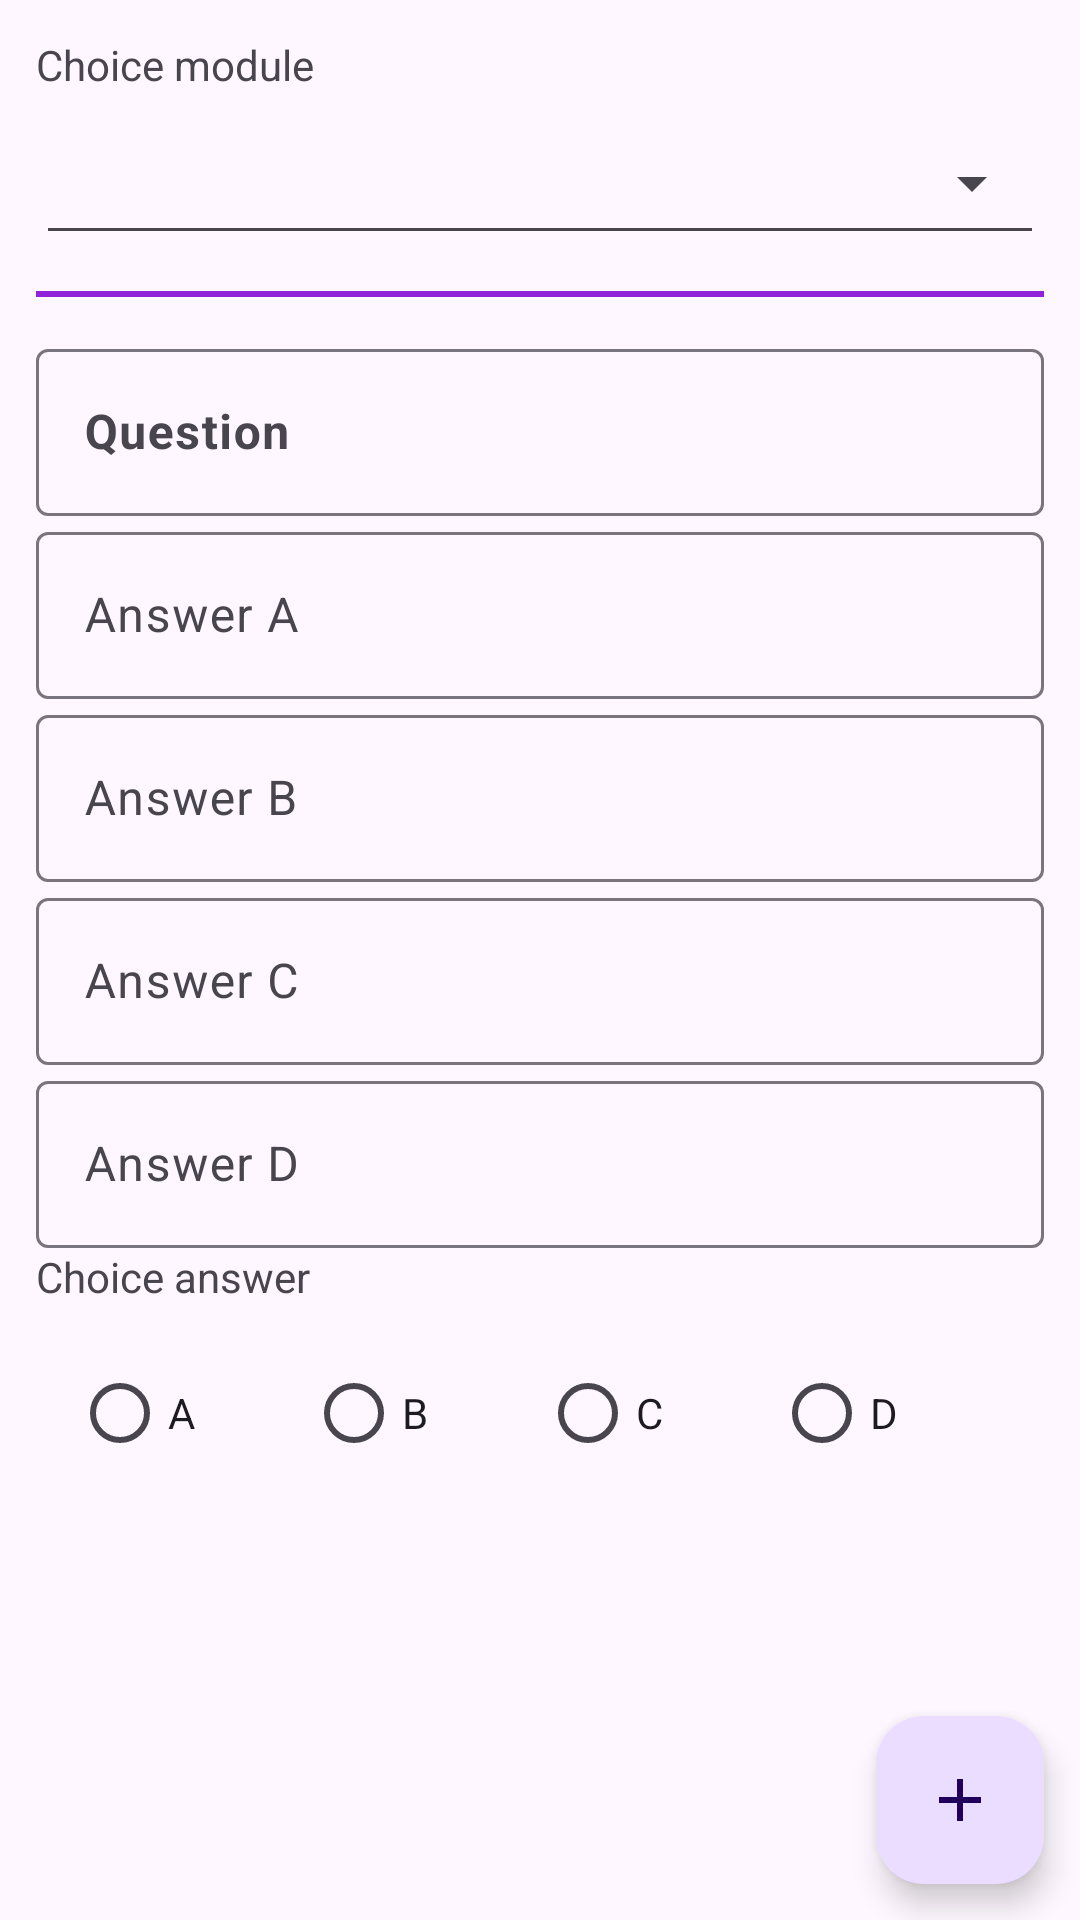

Point at icon controls on the screen. Image size 1080px x 1920px, points as (x,y).
add: (960,1800)
